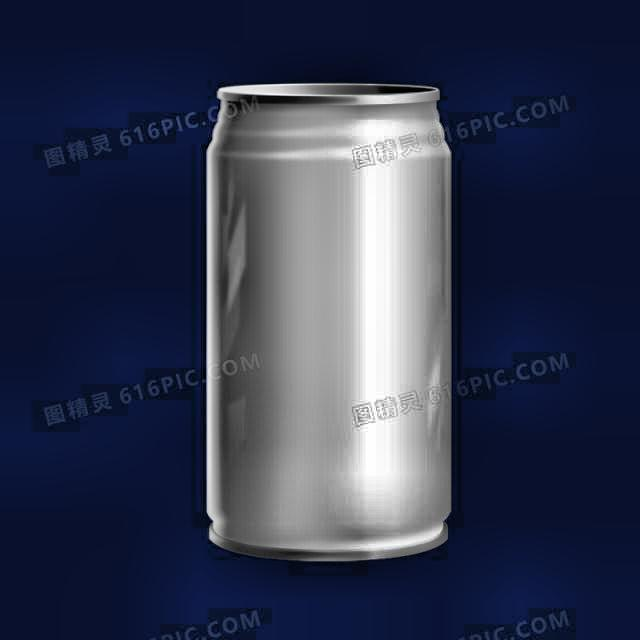can: (195, 72, 459, 563)
